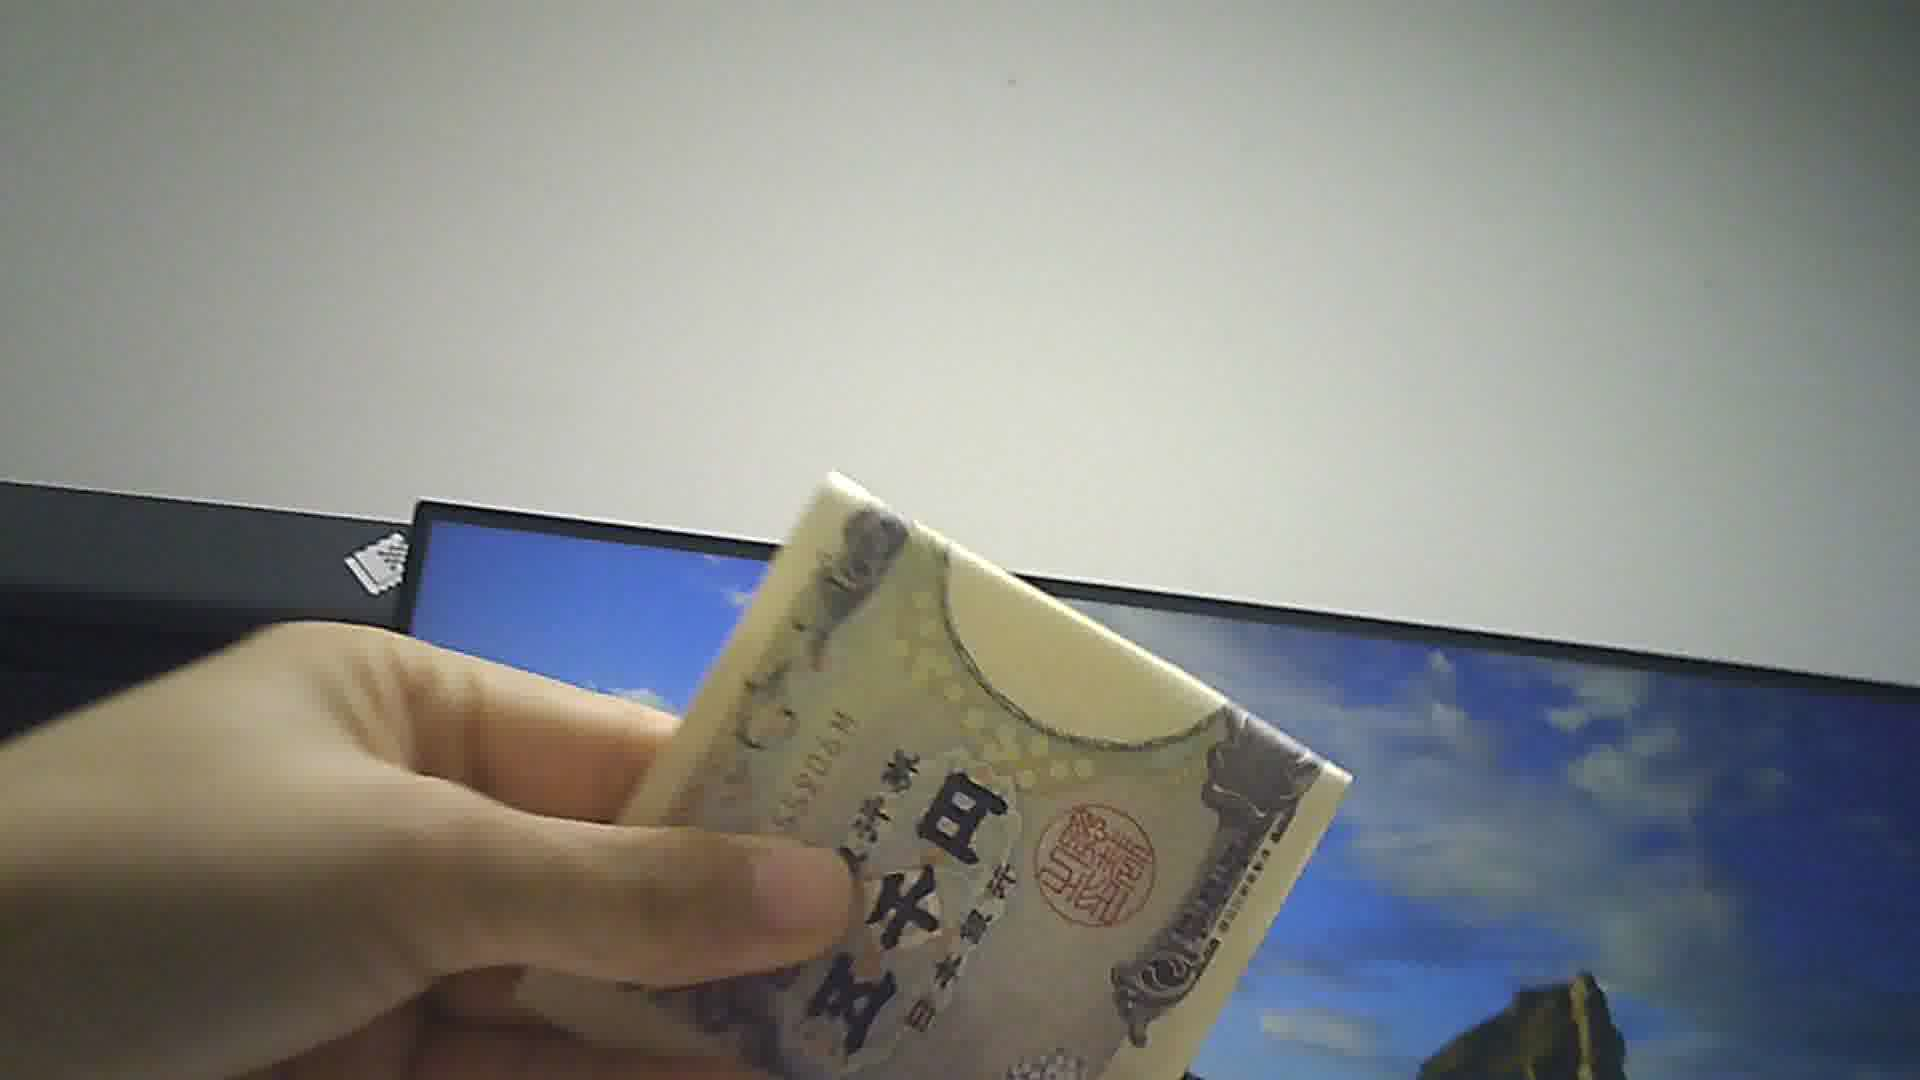5,000 Yen: (555, 462, 1338, 1079)
